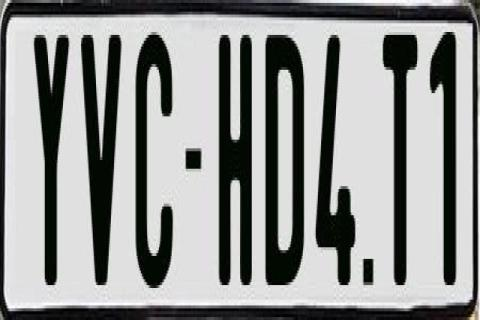0: (315, 26, 355, 276), (427, 32, 458, 285)
C: (134, 26, 174, 291)
D: (264, 29, 304, 279)
H: (219, 26, 253, 288)
T: (384, 26, 422, 282)
V: (78, 26, 122, 294)
Y: (31, 35, 73, 299)
